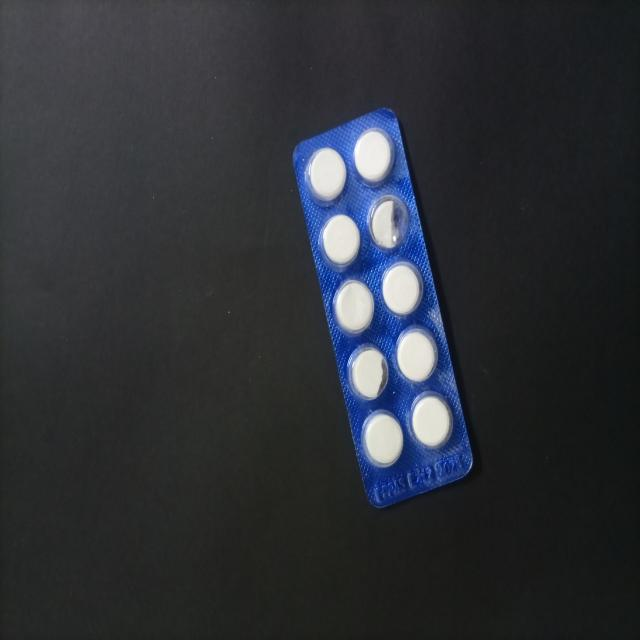defect: (345, 342, 391, 403), (366, 193, 411, 254)
